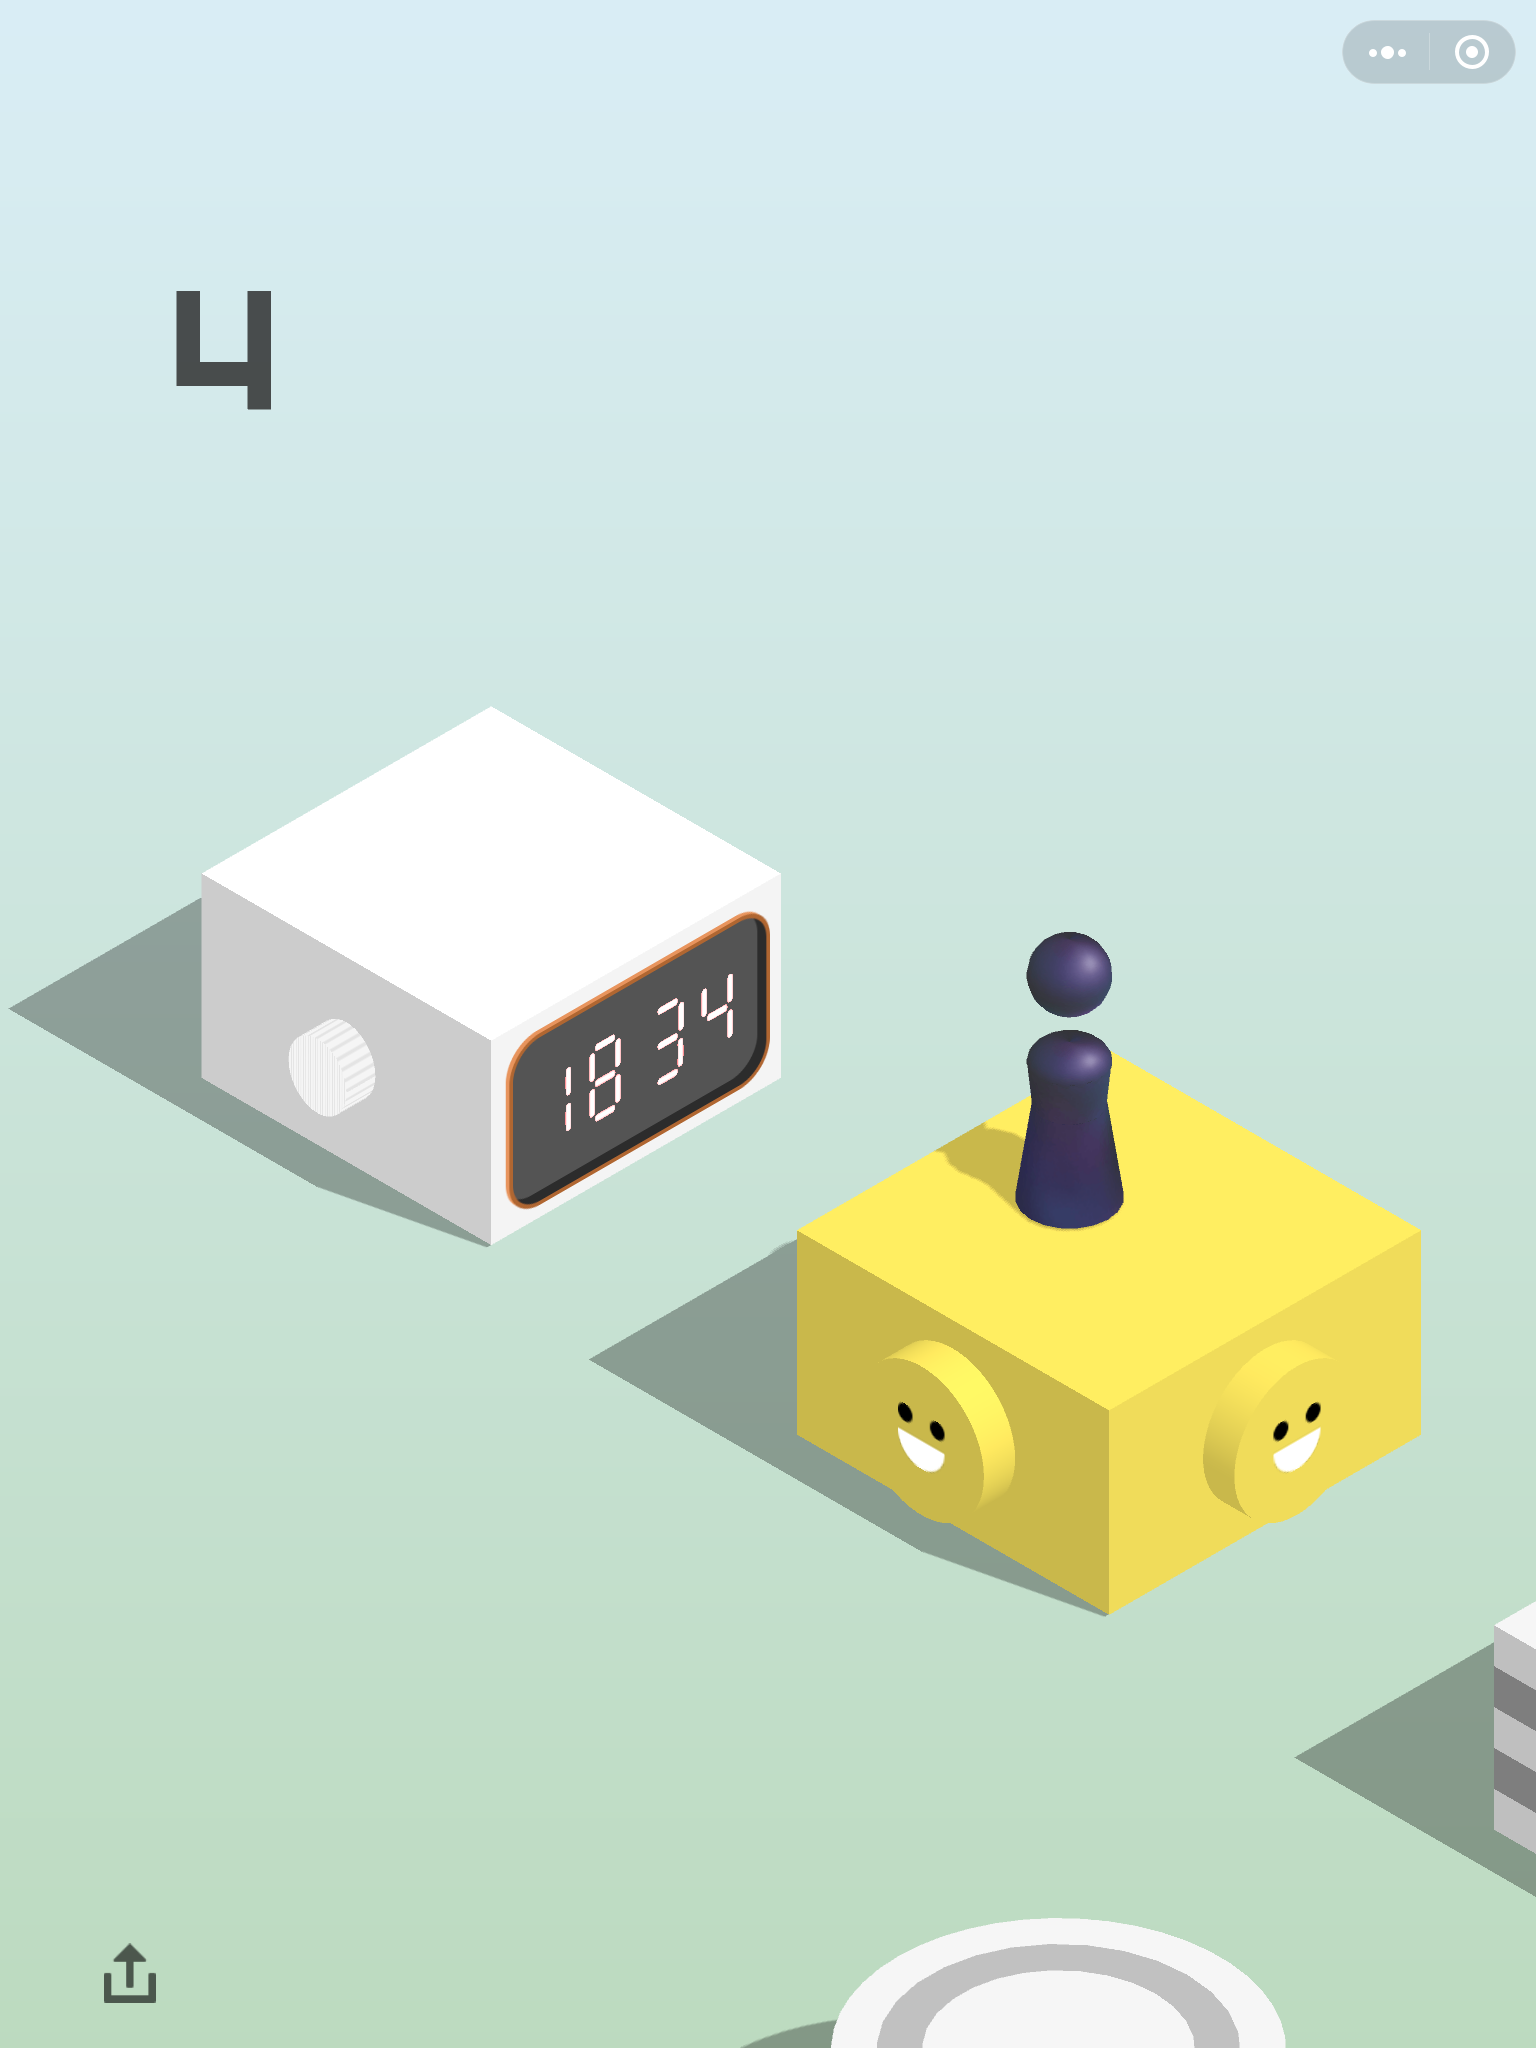c: (818, 1908, 1297, 2048)
f: (791, 1040, 1430, 1619), (192, 703, 787, 1256)
r: (1010, 927, 1129, 1235)
